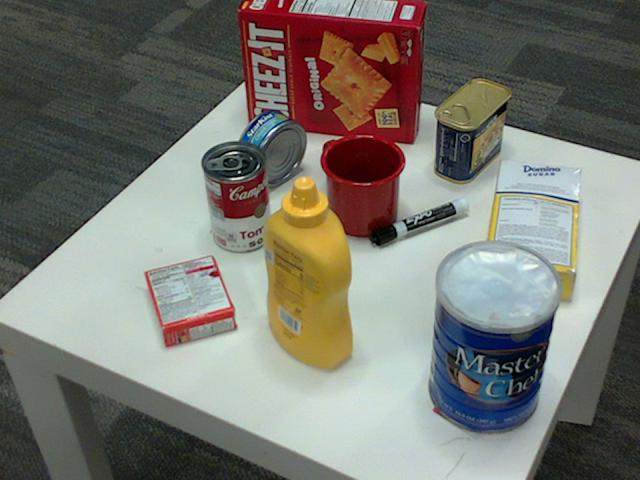cracker_box: (240, 0, 426, 142)
gelatin_box: (140, 254, 233, 346)
large_marker: (371, 201, 469, 245)
master_chef_can: (430, 242, 564, 436)
mug: (318, 132, 405, 236)
mustard_bottle: (263, 178, 351, 369)
potted_meat_can: (433, 81, 508, 184)
sugar_box: (480, 159, 580, 303)
tomato_soup_can: (201, 141, 271, 253)
tuna_fish_can: (234, 109, 306, 187)
